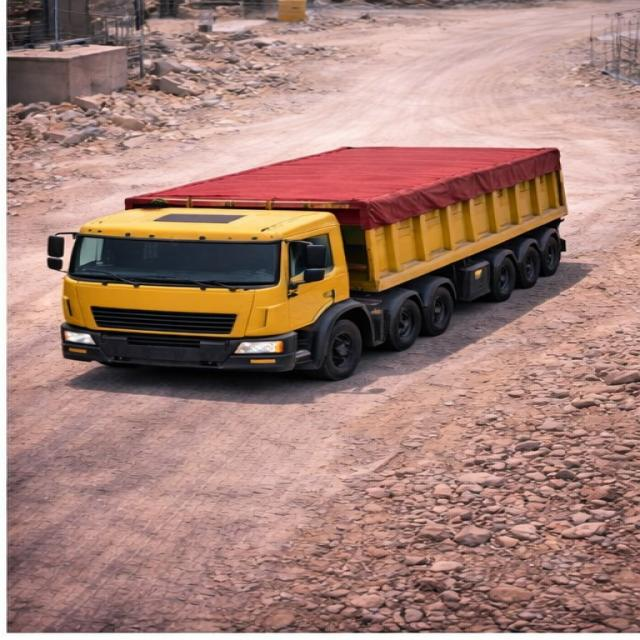trailer: (128, 137, 556, 211)
truck: (41, 123, 600, 384)
